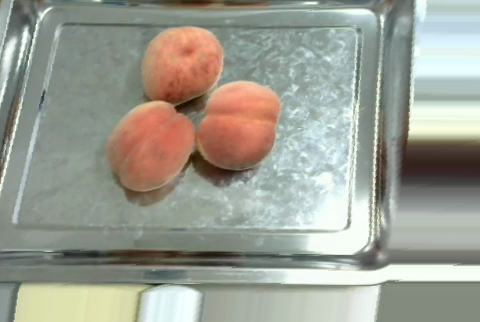Peach: (107, 100, 192, 191), (196, 80, 281, 171), (140, 24, 222, 103)
